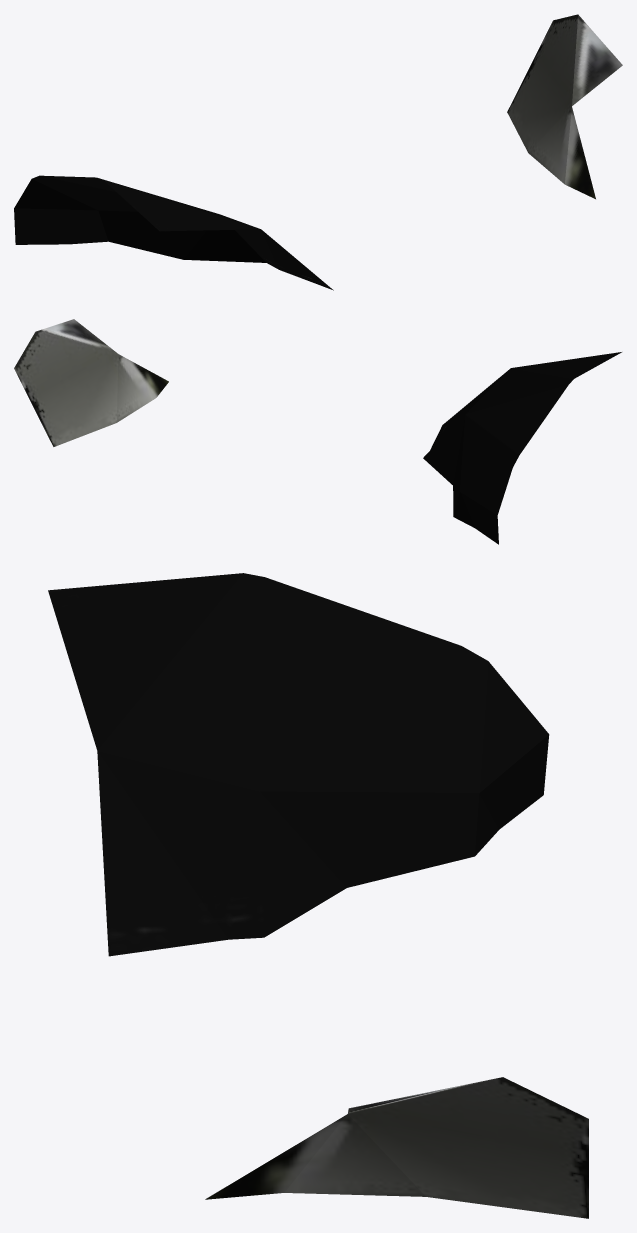
3 views of the same model, one above another, from view 1: azimuth 30°, elevation 25°; view 2: azimuth 150°, elevation 25°; view 3: azimuth 270°, elevation 25° (orthographic). The views are drawn at different scales.
Size of the model in its own units: 3.35 by 0.7502 by 1.66.
1 material, 1 textured.
